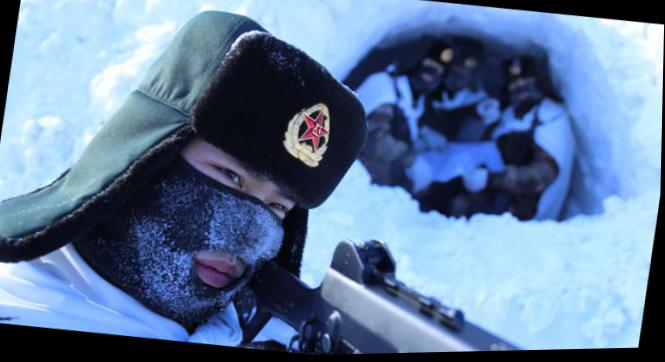WRONG: (124, 133, 305, 325)
